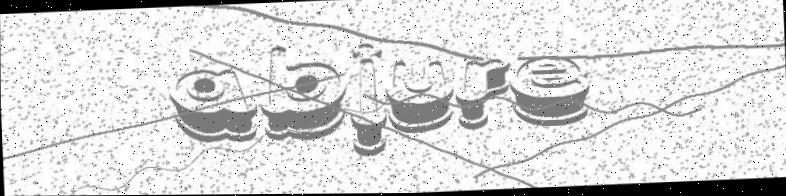a: (169, 68, 258, 145)
b: (260, 43, 349, 143)
e: (510, 57, 592, 128)
i: (349, 44, 388, 156)
r: (455, 58, 514, 131)
u: (386, 59, 455, 134)
